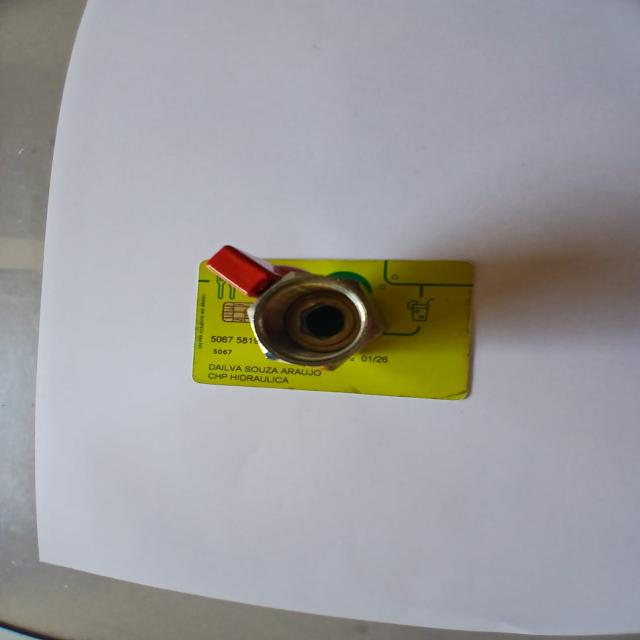cartao: (191, 260, 478, 400)
rosca_interna: (250, 276, 378, 371)
